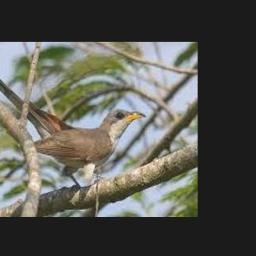Cuckoo: (0, 65, 147, 189)
